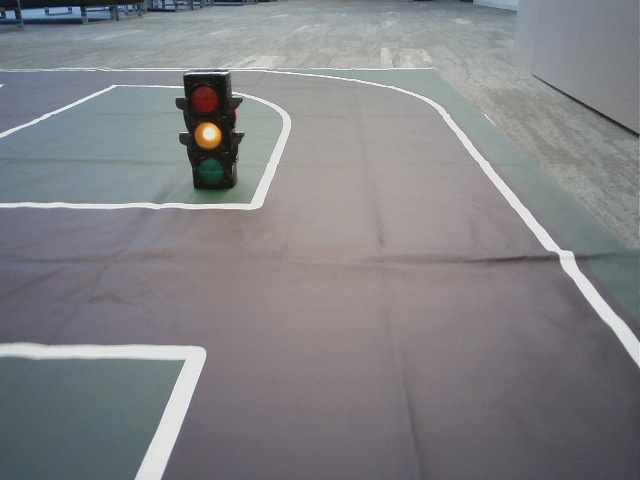yellow: (187, 79, 229, 185)
